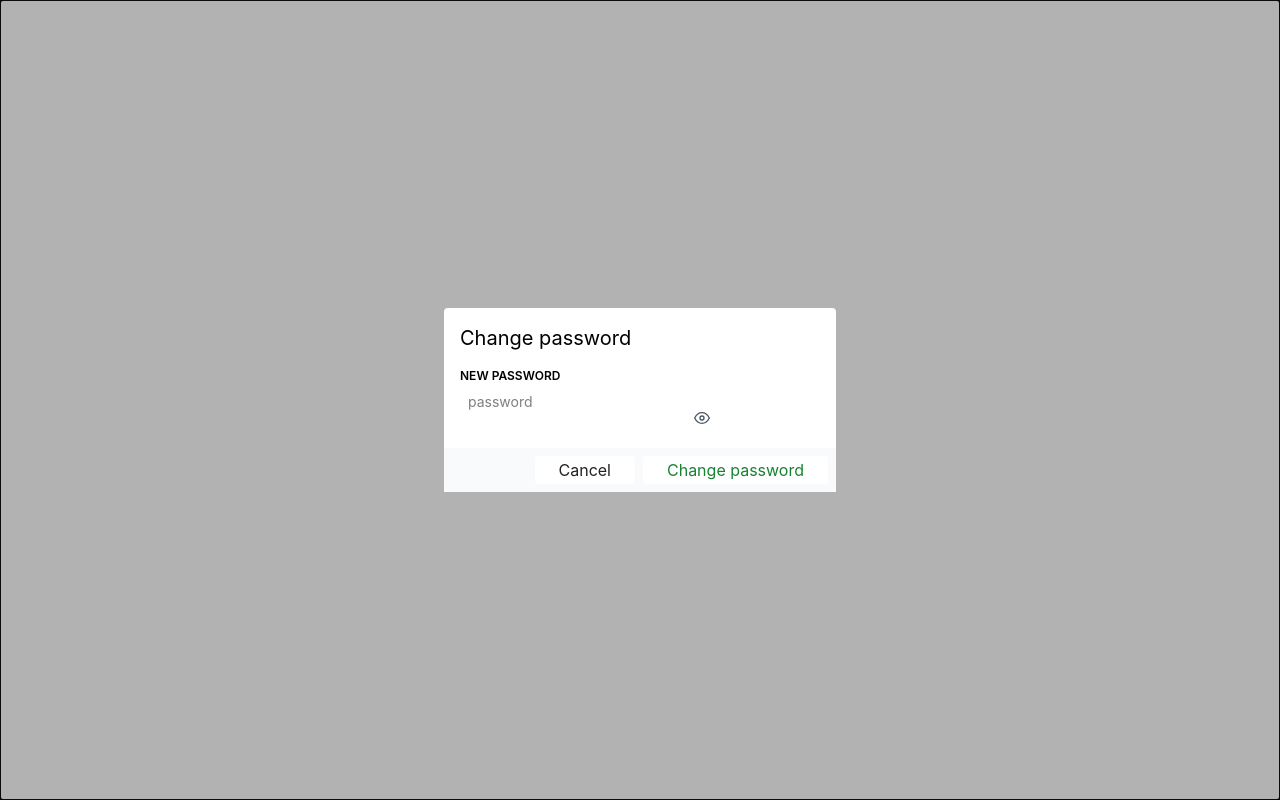
Scenario: ChangePasswordModal › Error Handling › displays error message on GraphQL error
The image size is (1280, 800).
Type "testPassword" into the password field labelled "New password".
click(589, 402); type("testPassword")  # box [460,388,718,416]
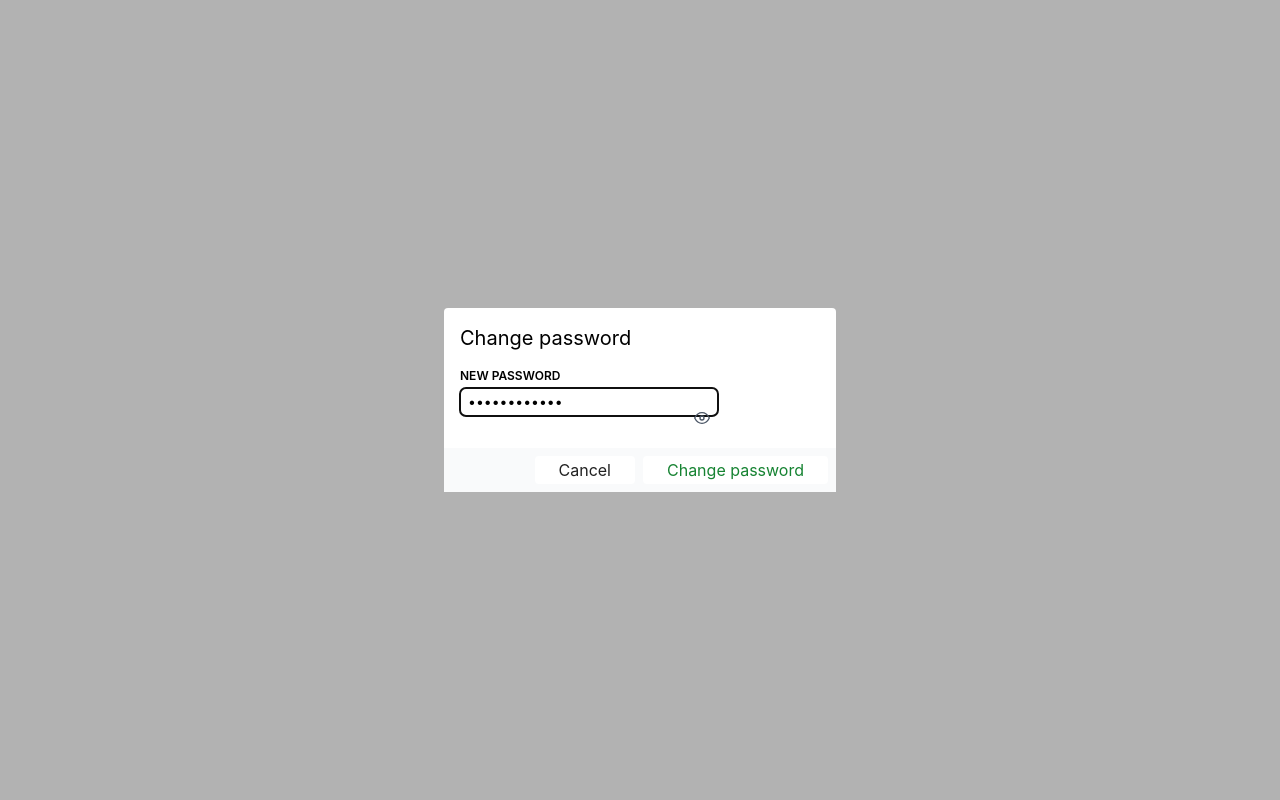
Click the button "Change password".
click(736, 470)  # box [643,456,828,484]
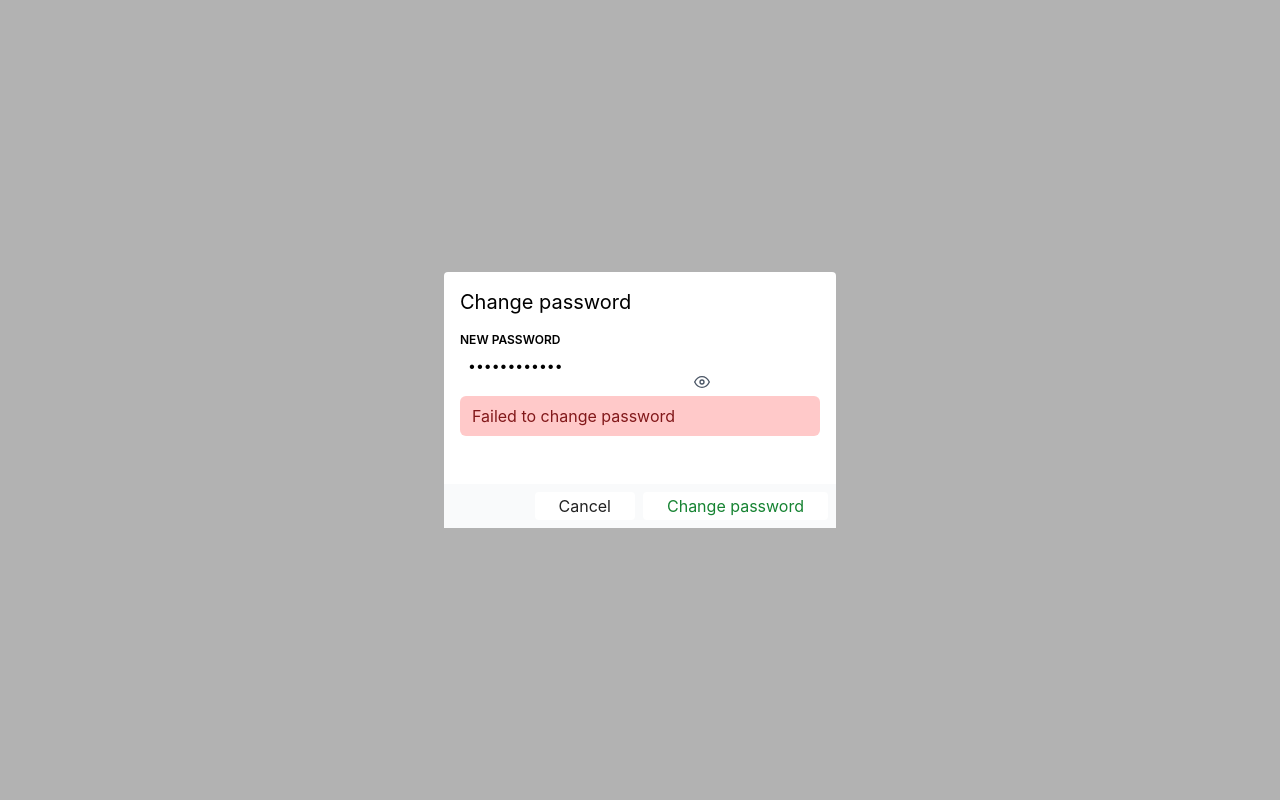
Result: the text "Failed to change password" is shown at [460,396,820,436]
